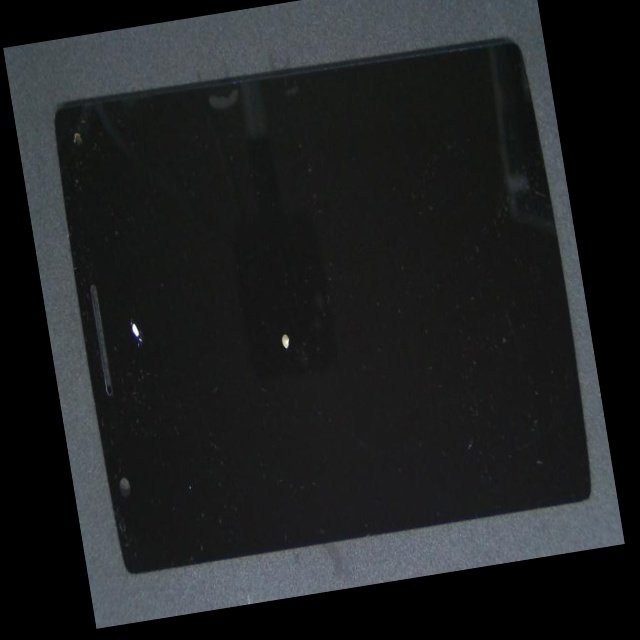stain: (157, 174, 439, 508), (56, 138, 194, 489)
